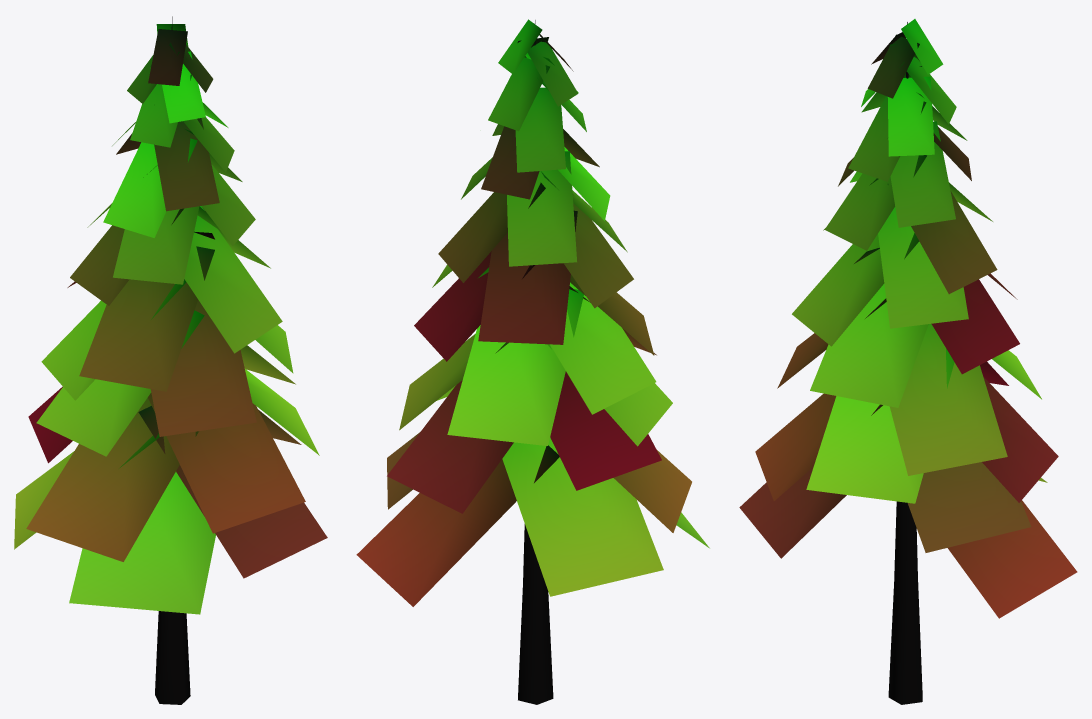
File: SuperPine_1_1.fbx
The picture shows the model from 3 angles, left to right: view 1: azimuth 30°, elevation 25°; view 2: azimuth 150°, elevation 25°; view 3: azimuth 270°, elevation 25°; orthographic projection.
Parts seen in each view (by area): view 1: SuperPine_1_1; view 2: SuperPine_1_1; view 3: SuperPine_1_1.
Part boxes in pixels (bbox=[...]): SuperPine_1_1: bbox=[14, 16, 327, 704]; SuperPine_1_1: bbox=[356, 19, 709, 704]; SuperPine_1_1: bbox=[739, 19, 1077, 704].
Bounding box in the file's own units: 378 × 875 × 393.
